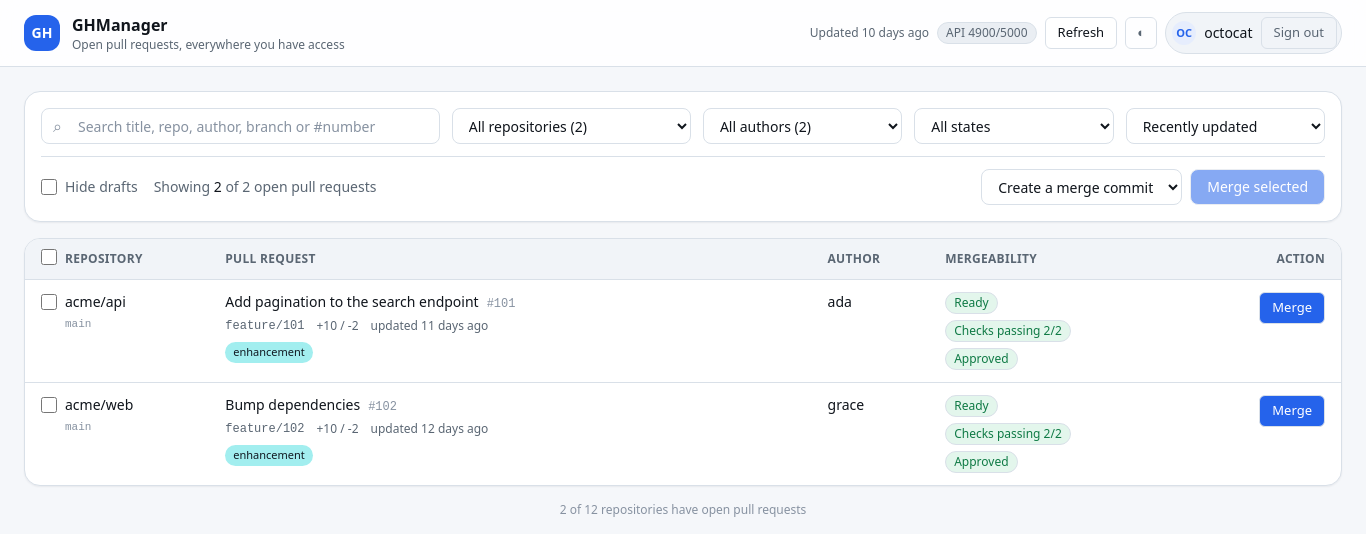
Test: Dashboard bulk merge › clears the selection on request
Expected: the table is shown, [25,239,1341,485]
Click the checkbox named "Select all 2 mergeable pull requests in view": [49, 257] box [41,249,57,265]
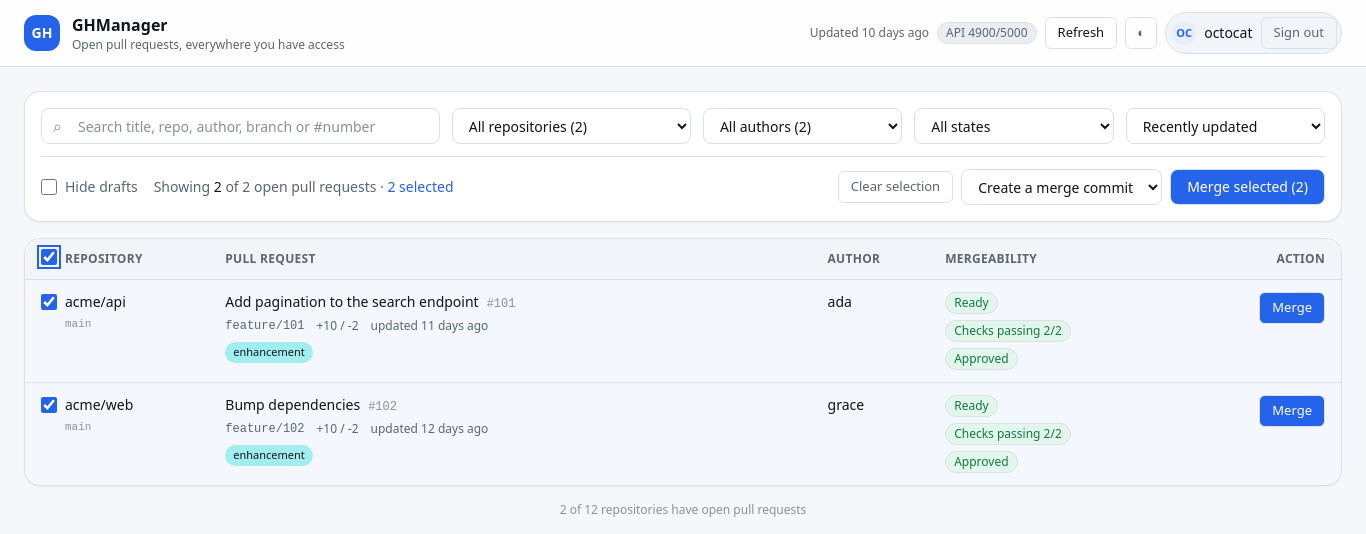
Now the text "2 selected" is shown, box [388,177,454,196]
Click the button "Clear selection": [896, 187] box [838,171,953,203]
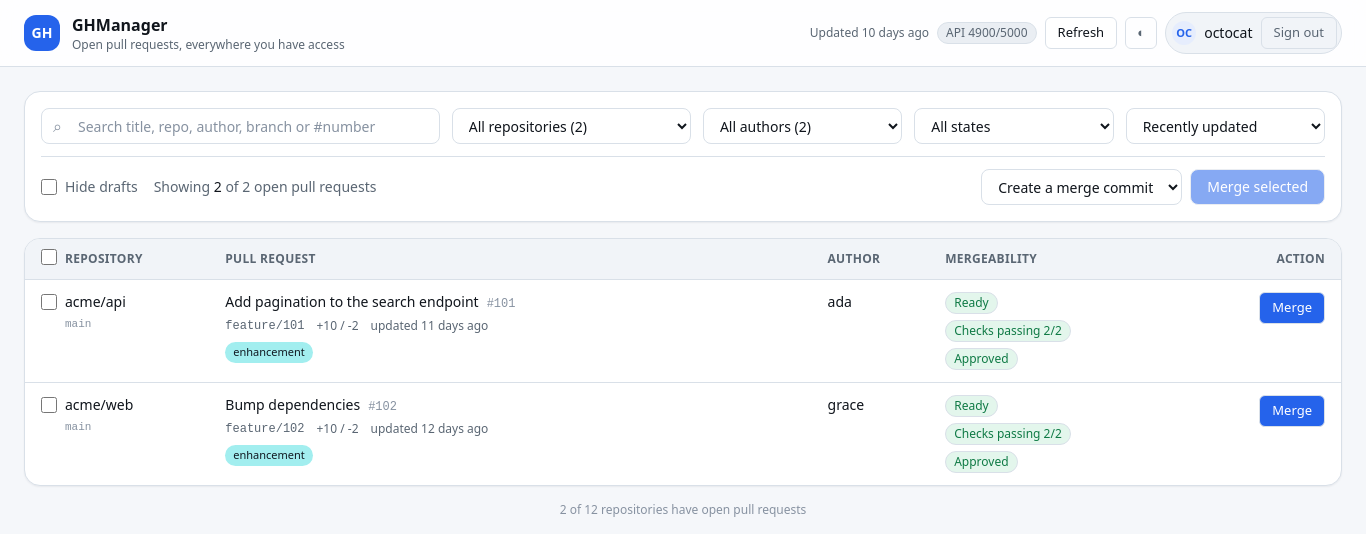
Now the text "2 selected" is gone
Now the button "Merge selected" is disabled, box [1190,169,1325,205]
